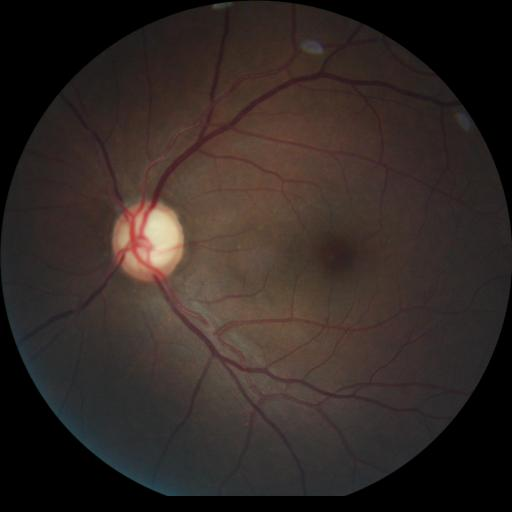Optic Cup: (119, 210, 178, 267)
Optic Disc: (112, 200, 184, 282)
